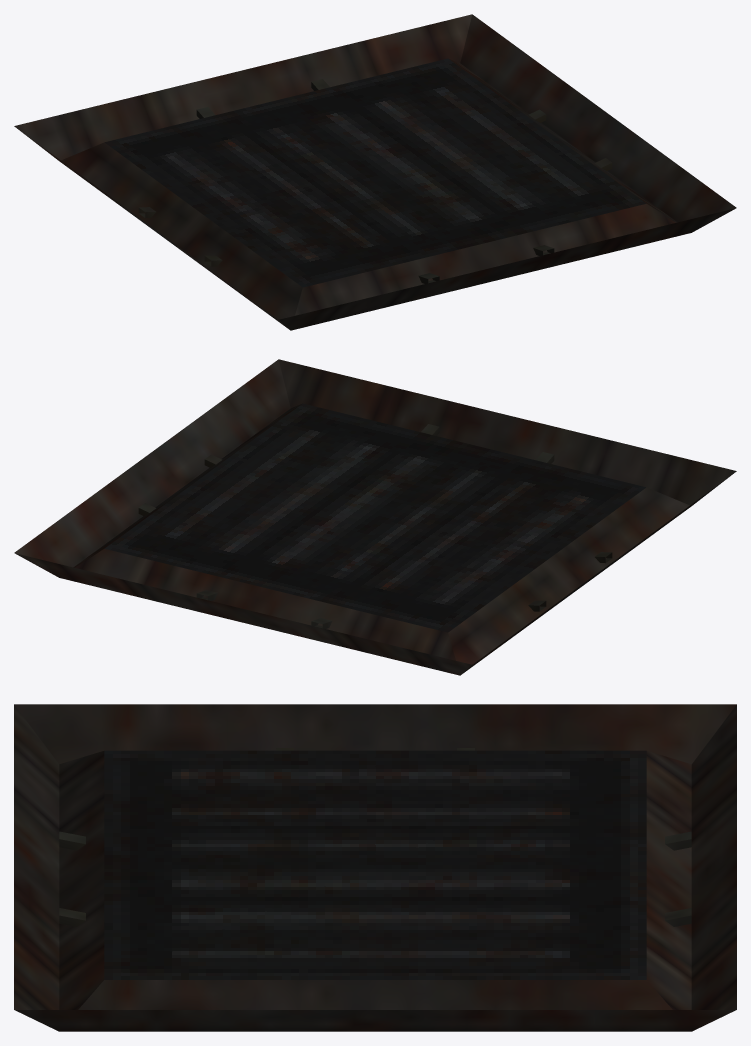
File: ceiling_lamp_fps_1.obj
3 views of the same model, one above another, from view 1: azimuth 30°, elevation 25°; view 2: azimuth 150°, elevation 25°; view 3: azimuth 270°, elevation 25° (orthographic). The views are drawn at different scales.
Parts seen in each view (by area): view 1: ceiling_lamp_fps_1; view 2: ceiling_lamp_fps_1; view 3: ceiling_lamp_fps_1.
Boxes of the visible parts, x1,y1,x2,y2 form: ceiling_lamp_fps_1: [14, 14, 736, 330]; ceiling_lamp_fps_1: [14, 359, 736, 675]; ceiling_lamp_fps_1: [14, 704, 736, 1031].
Size of the model in its own units: 0.8 by 0.09 by 0.8.
